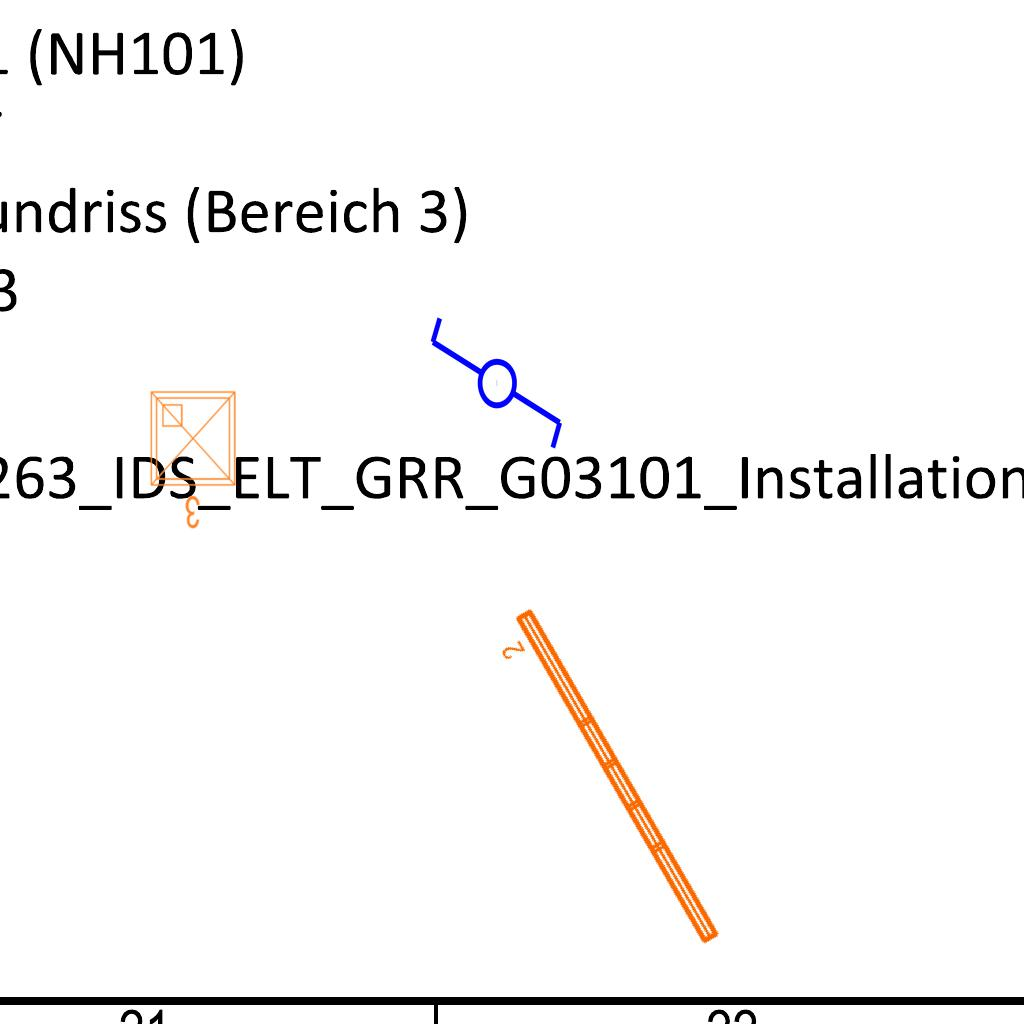Ambulanz_Pendelleuchte_LED: (485, 601, 728, 965)
Einbaudownlights_LED_Konferenzraeume: (143, 384, 247, 534)
Wechselschalter: (423, 313, 567, 470)
